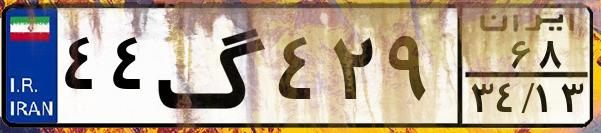1: (535, 70, 560, 125)
2: (330, 28, 385, 110)
3: (560, 70, 590, 125), (470, 70, 495, 125)
4: (270, 28, 330, 110), (57, 26, 110, 100), (110, 28, 156, 98), (495, 70, 520, 125)
6: (508, 27, 537, 80)
8: (537, 27, 568, 80)
9: (385, 28, 445, 110)
گ: (156, 12, 270, 120)
